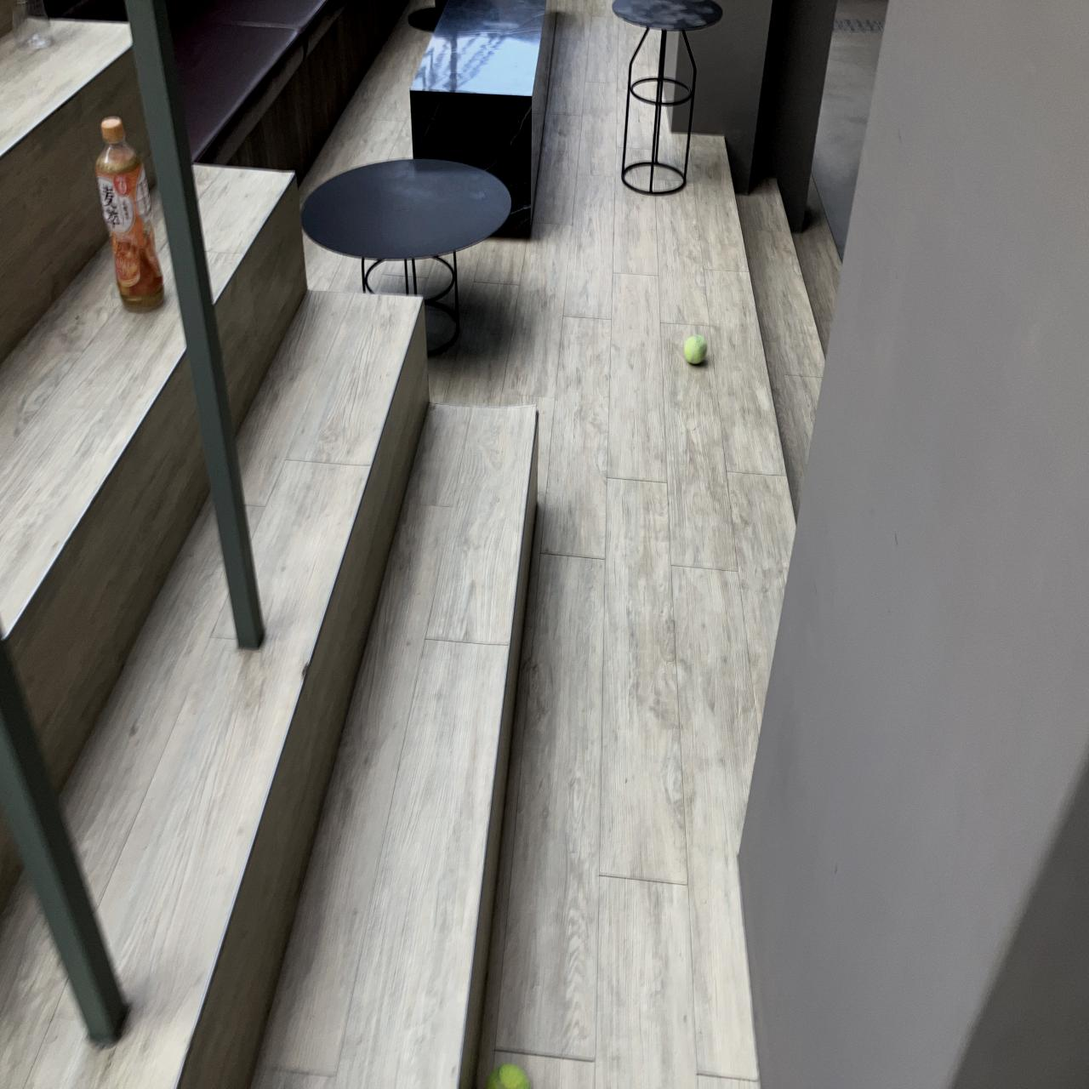tennisball: (0, 649, 20, 707), (543, 912, 566, 943)
